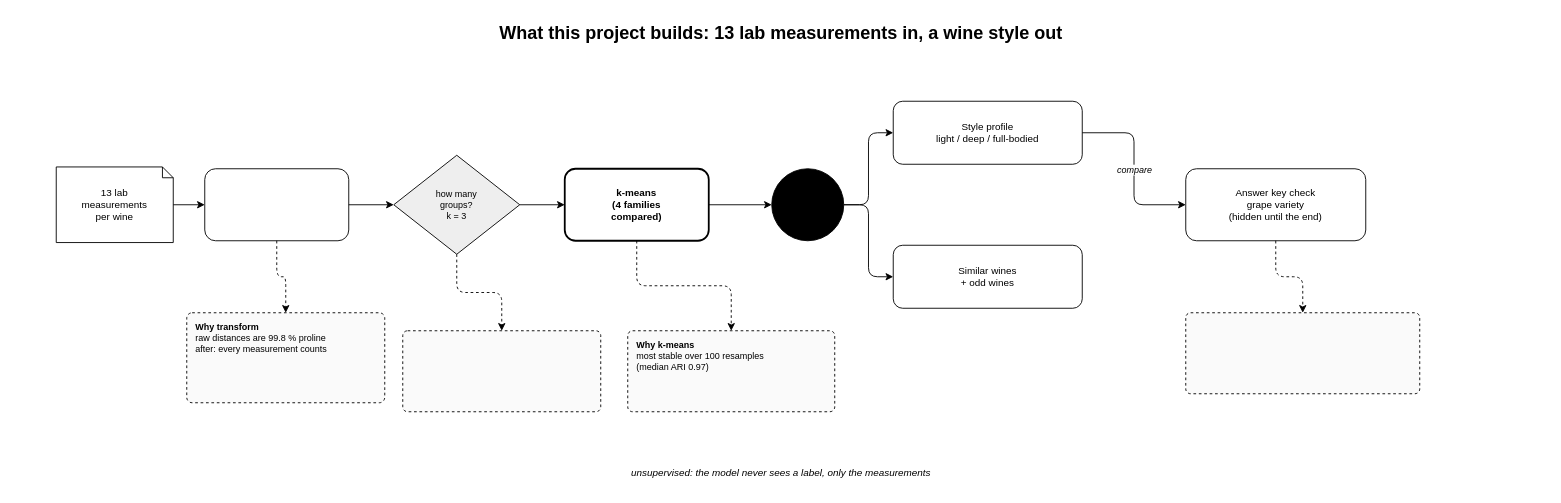
The diagram is 1561 pixels wide and 503 high, and some of its shapes have lost their labels. Each missing label, with the centre of its shape:
"Four rules agree silhouette, Calinski-Harabasz, Davies-Bouldin, mixture BIC" belongs at (501,371).
"Make comparable Yeo-Johnson + standardise" belongs at (276,204).
"Result 96 % of wines land with their own grape, never seen in training" belongs at (1302,353).
"style" belongs at (807,204).
